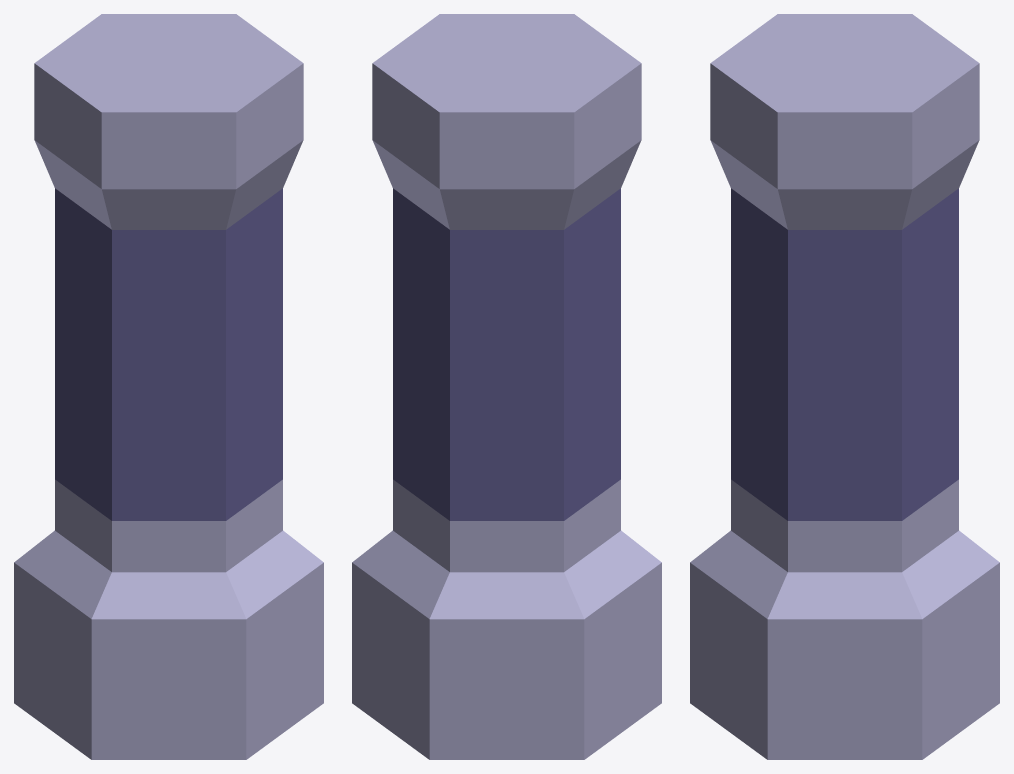
The model's file is column.glb.
3 views of the same model, side by side, from view 1: azimuth 30°, elevation 25°; view 2: azimuth 150°, elevation 25°; view 3: azimuth 270°, elevation 25° (orthographic).
Visible parts, largest first — view 1: column_round; view 2: column_round; view 3: column_round.
Boxes of the visible parts, box(x1,y1,x2,y2) form: column_round: box(14, 14, 323, 759); column_round: box(352, 14, 661, 759); column_round: box(690, 14, 999, 759).
Size of the model in its own units: 0.38 by 1 by 0.4388.
